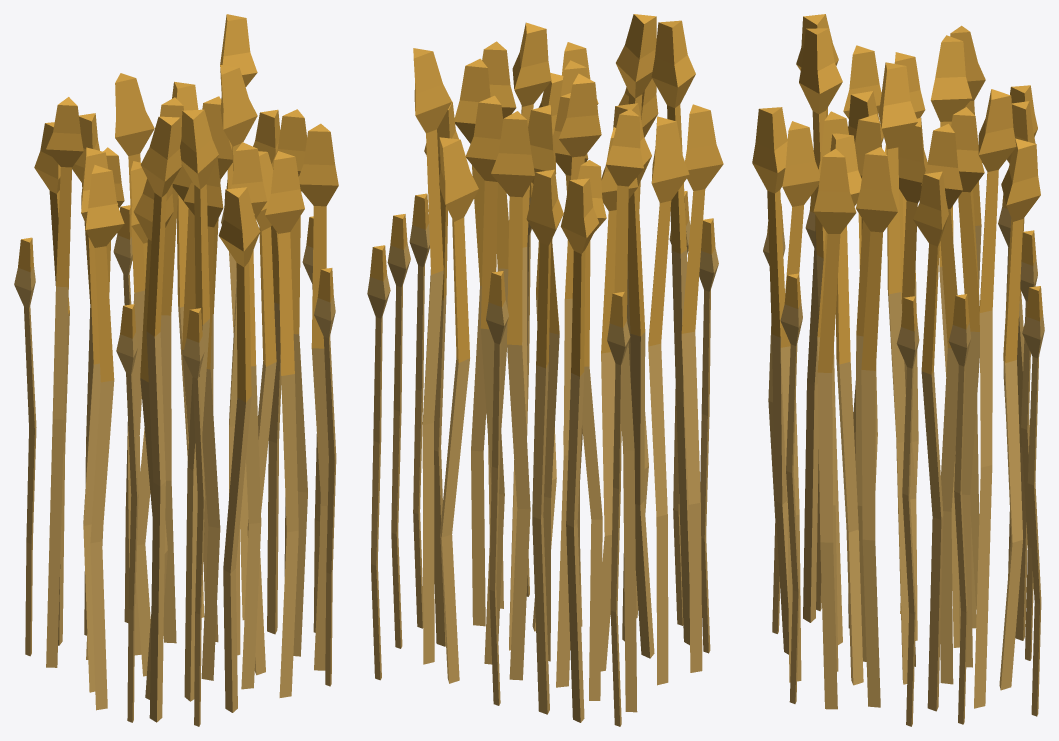
Rendered from Wheat.fbx.
3 renders of one model, left to right at view 1: azimuth 30°, elevation 25°; view 2: azimuth 150°, elevation 25°; view 3: azimuth 270°, elevation 25°, orthographic. The views are drawn at different scales.
Parts seen in each view (by area): view 1: Wheat; view 2: Wheat; view 3: Wheat.
Boxes of the visible parts, x1,y1,x2,y2 form: Wheat: (14,14,338,726); Wheat: (367,14,723,726); Wheat: (752,14,1044,726).
Size of the model in its own units: 50.13 by 105 by 45.74.
